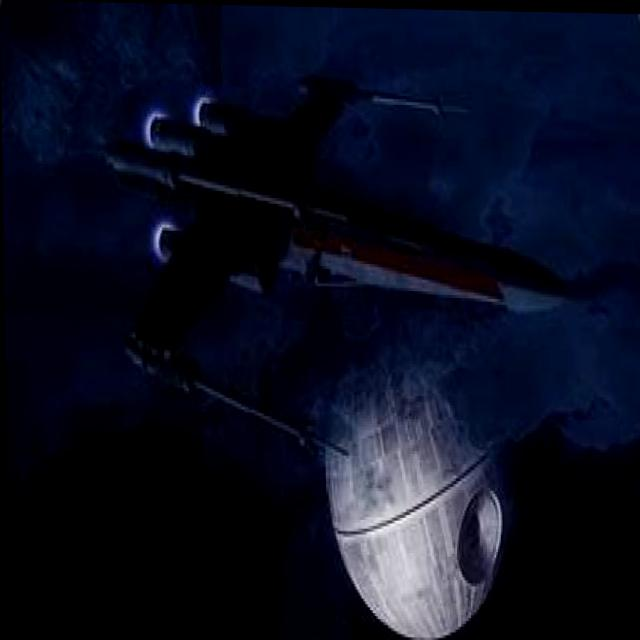deathStar: (311, 332, 519, 640)
